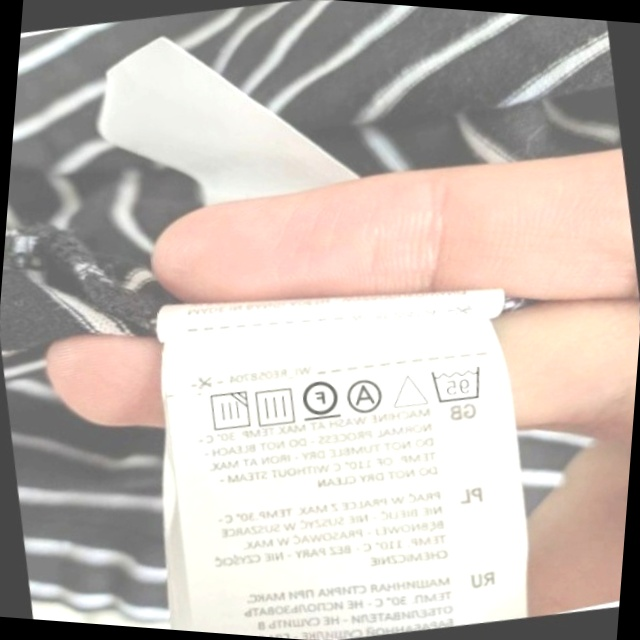95C: (424, 358, 489, 410)
bleach: (387, 365, 431, 415)
drip_dry: (248, 380, 301, 432)
drip_dry_in_shade: (200, 385, 255, 438)
dry_clean: (342, 373, 389, 418)
dry_clean_petrol_only: (295, 371, 344, 426)
